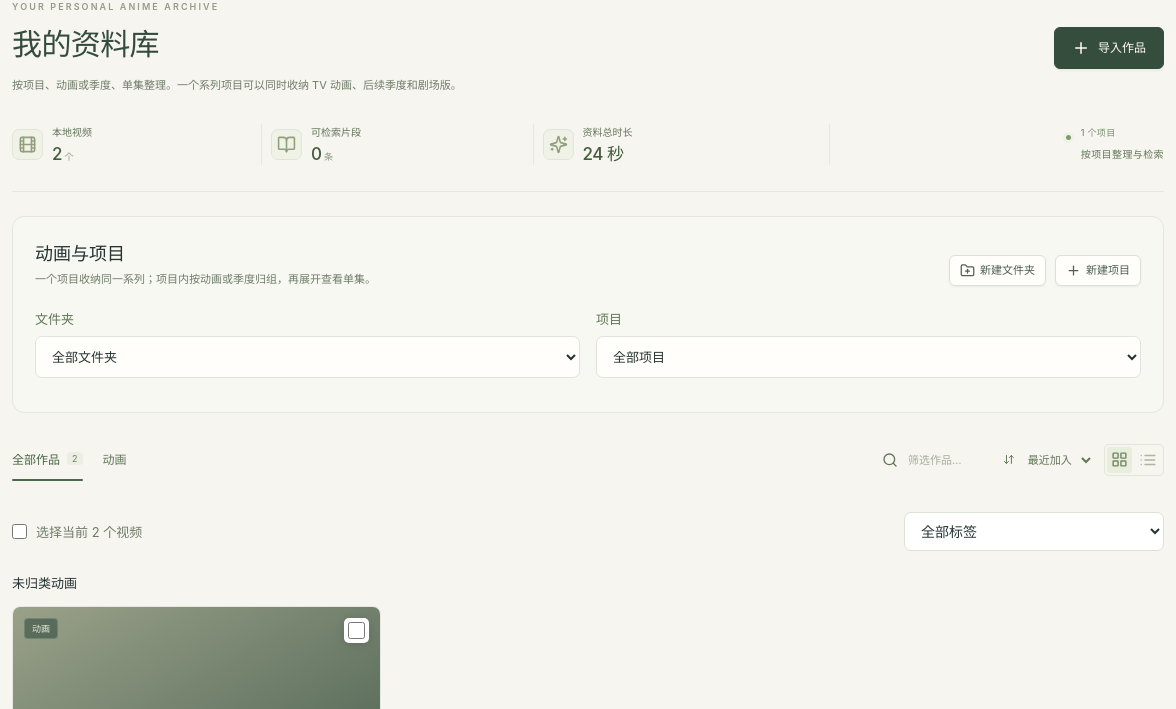
Scenario: Animation-focused entry points › removes movie and series navigation while keeping existing assets accessible
Expected: the button "电影" is not shown
Click the button "动画" at [114, 460], box [102,438,126,482]
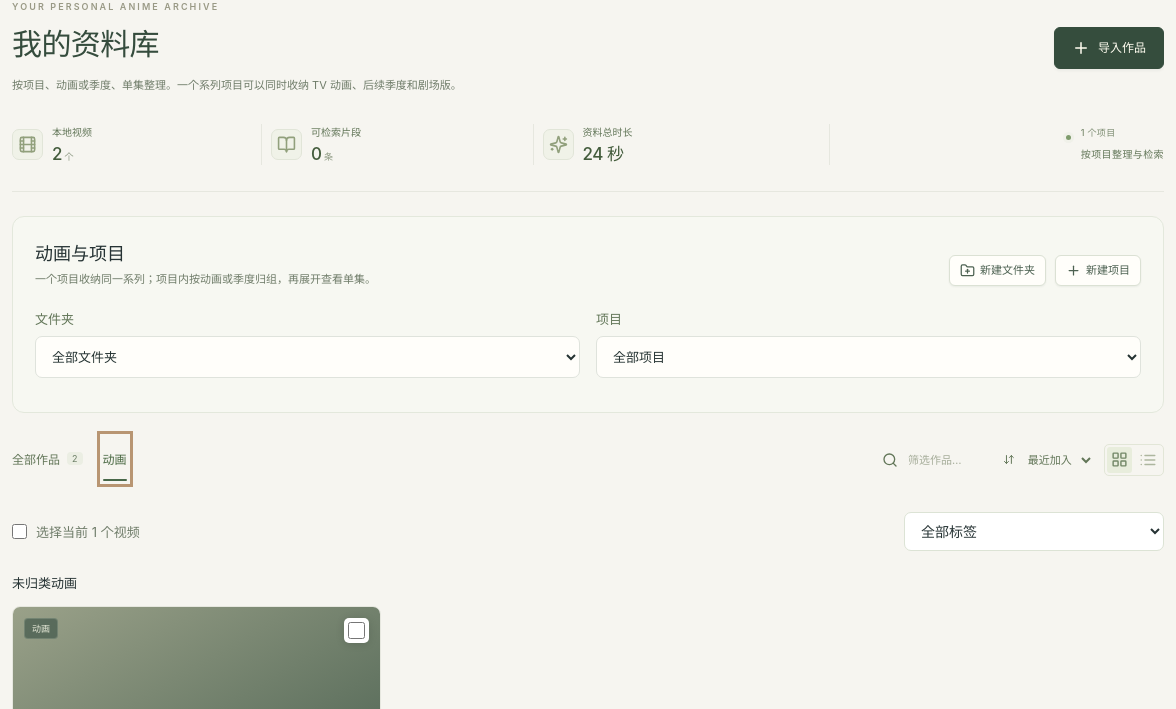
Expected: the text "旧资料" is not shown
Click the button "全部作品 2" at [47, 460], box [12,438,82,482]
(page scrolled)
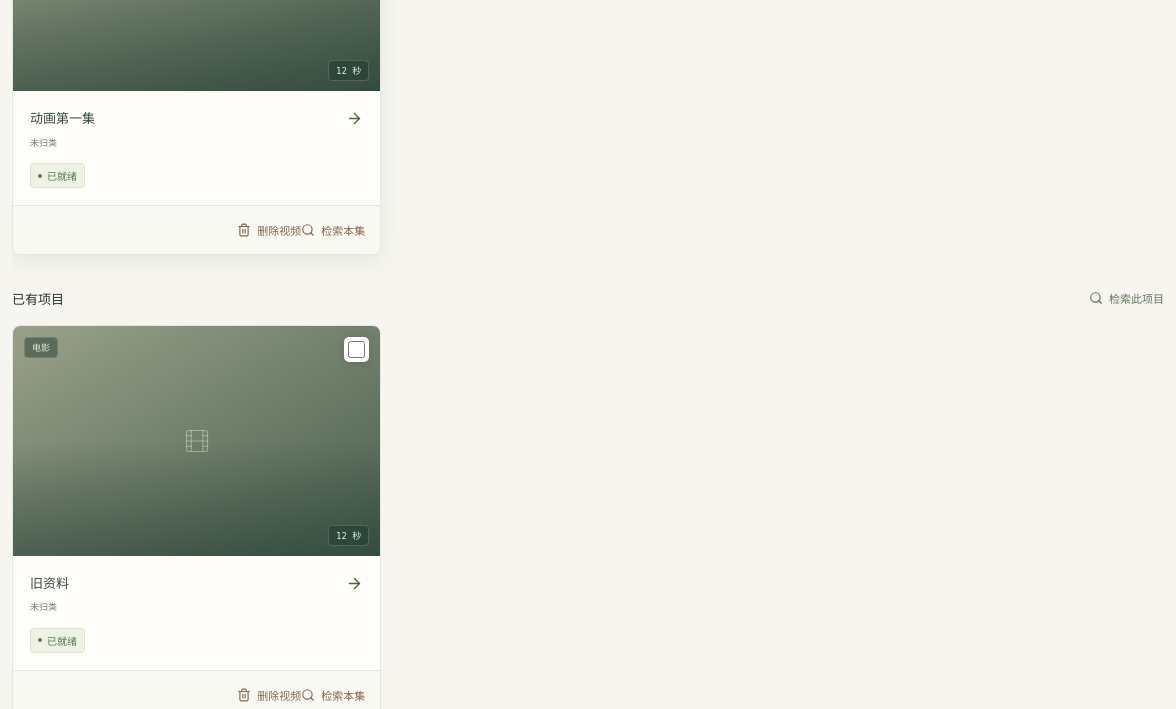
Result: the heading "旧资料" is shown at [30,573,69,593]
